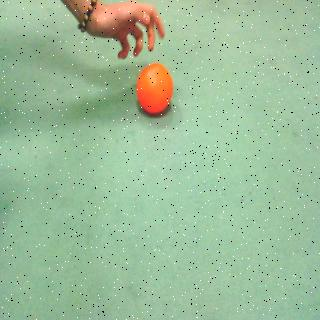orange: (134, 59, 177, 121)
